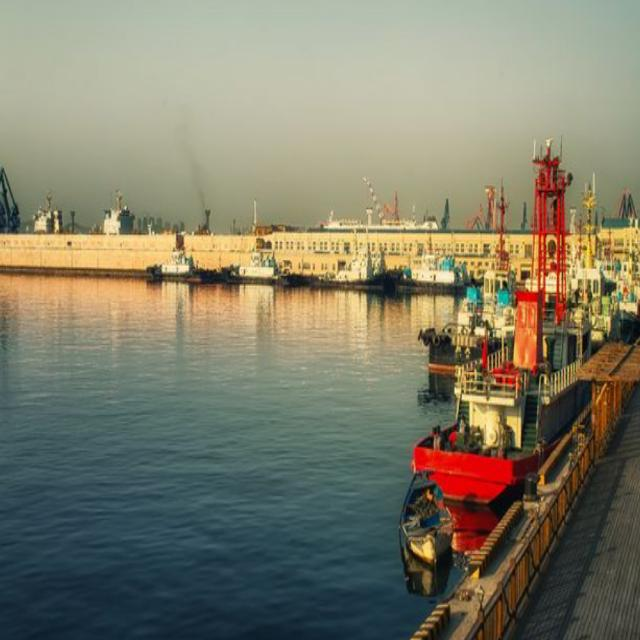houseboat: (415, 164, 598, 547)
